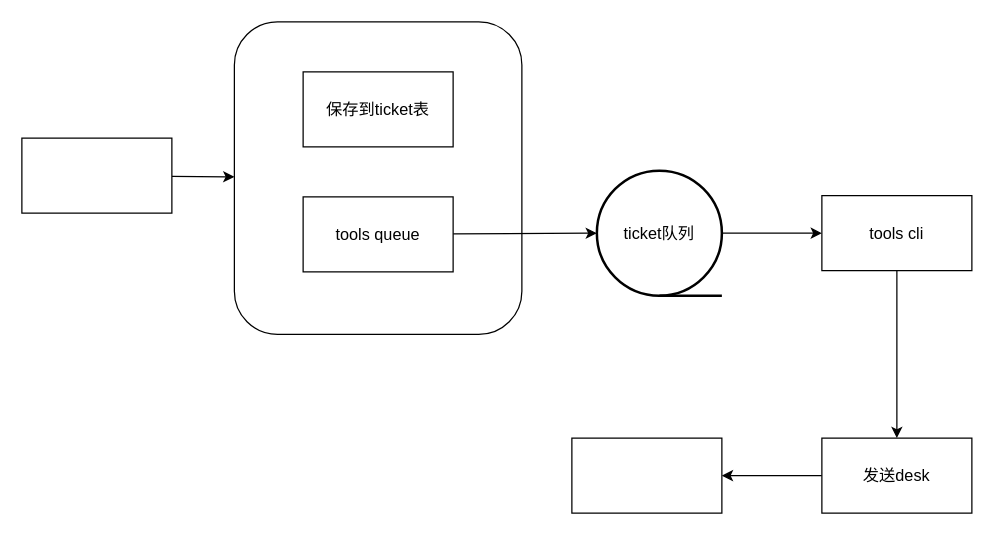
Image size: 994x535. Some labels were removed from this diagram. Each missing label, with the box of its shape:
platform提交ticket: (21, 137, 172, 213)
将desk返回的id更新到ticket表: (571, 437, 722, 513)
